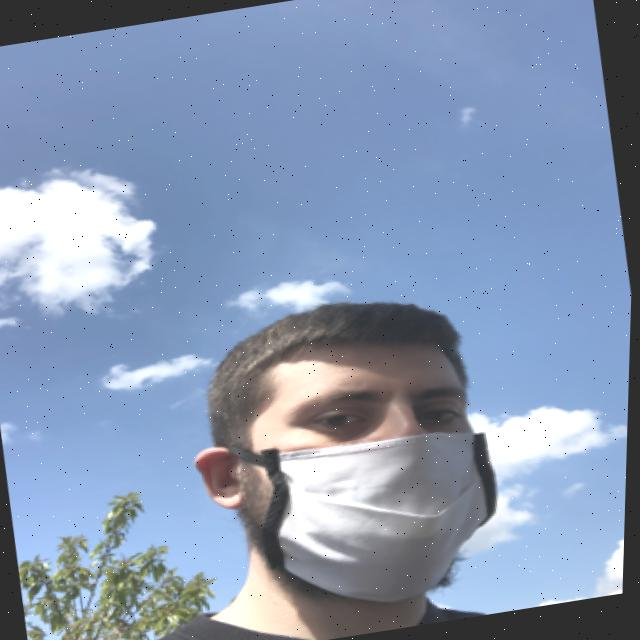Mask: (204, 394, 524, 620)
